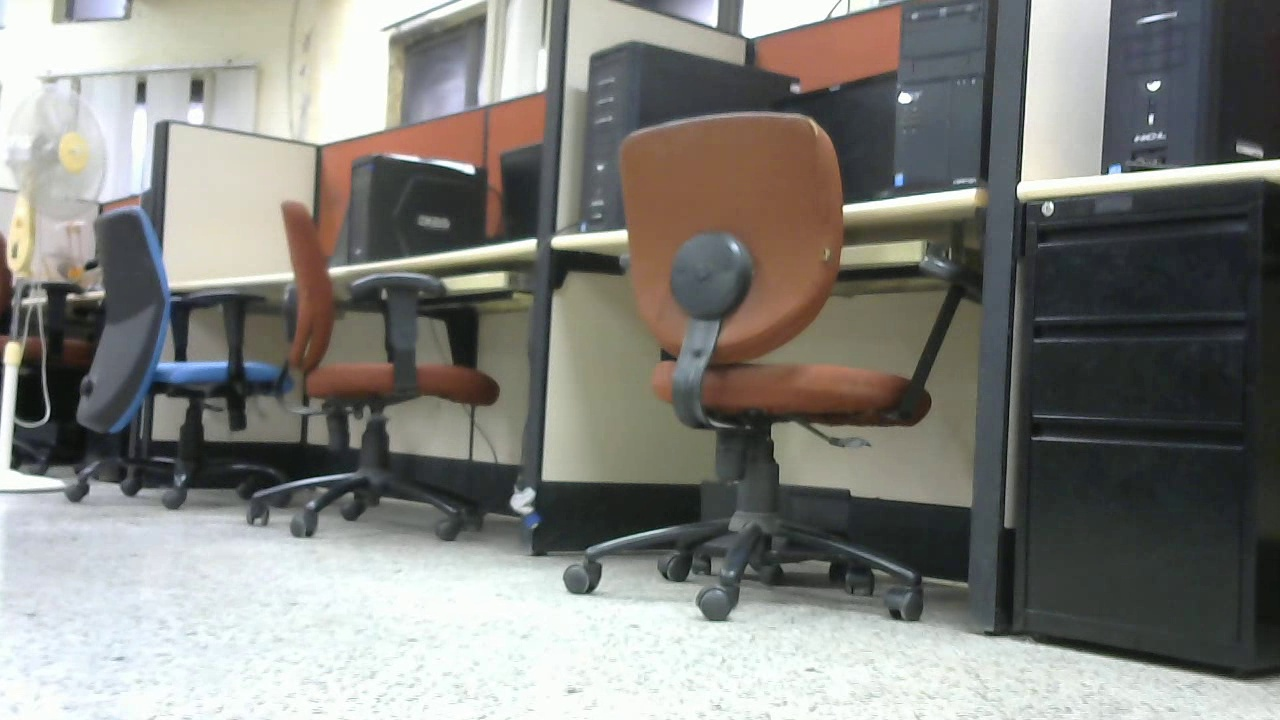chair: (563, 111, 979, 624), (250, 197, 502, 546), (64, 205, 288, 505), (1, 233, 107, 471)
